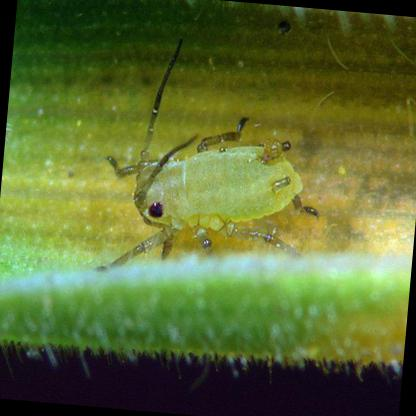schizaphis graminum: (105, 40, 320, 272)
